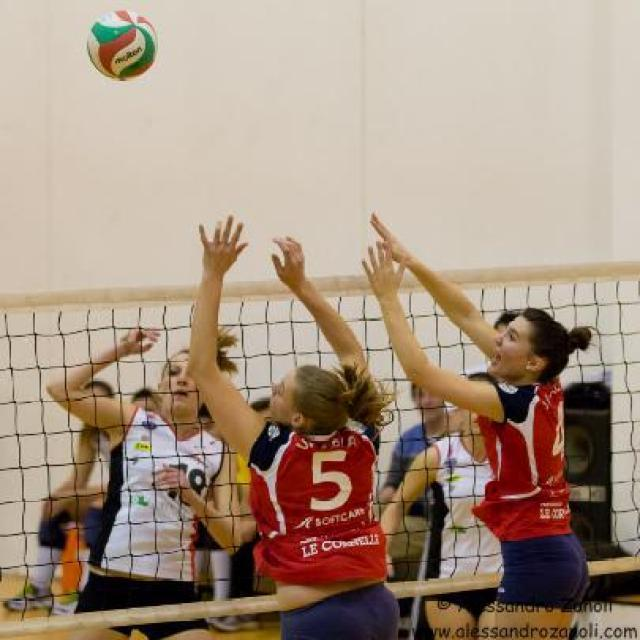volleyball: (84, 11, 158, 81)
